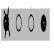correct: (40, 12, 47, 33)
not correct: (3, 6, 11, 40)
